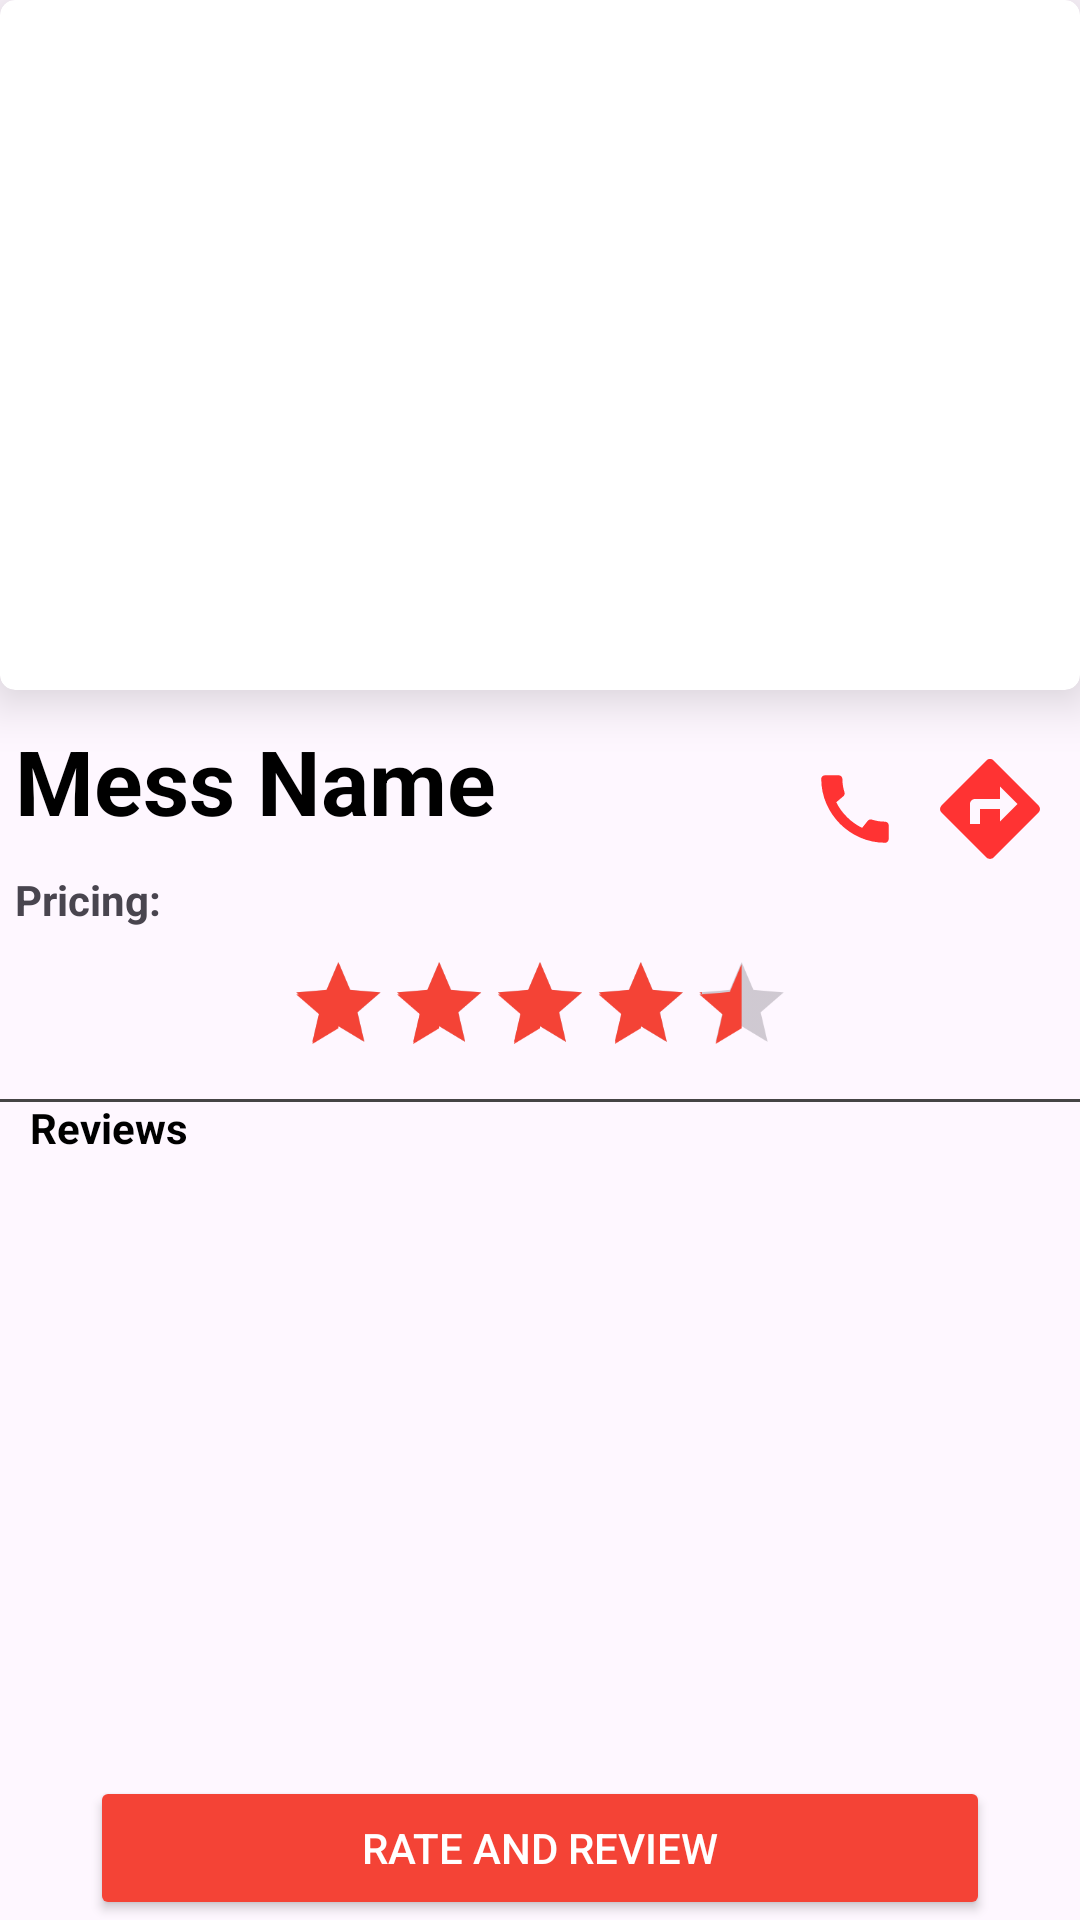

Screen size 1080x1920. Icon name, then its center in pixels as (x,y):
call: (855,809)
directions: (990,809)
